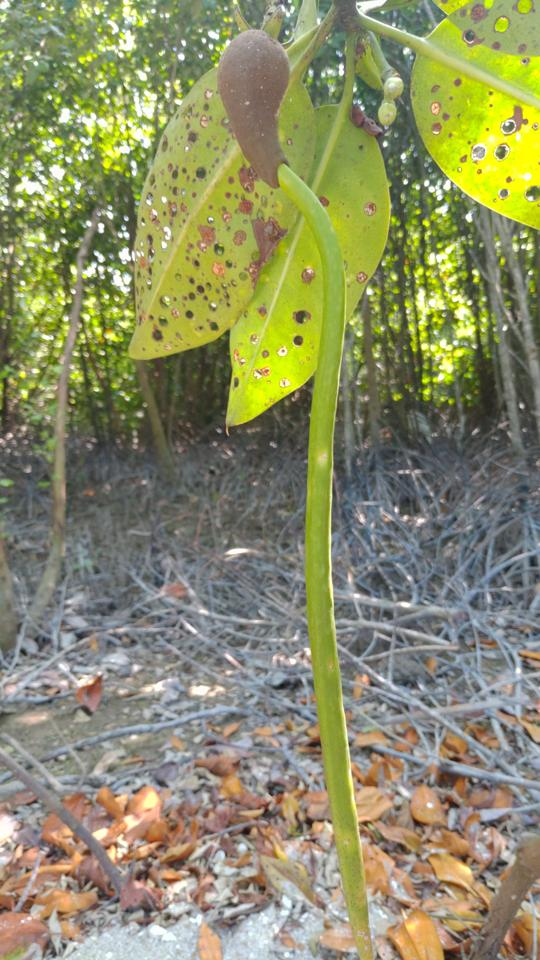mentah: (197, 15, 393, 958)
